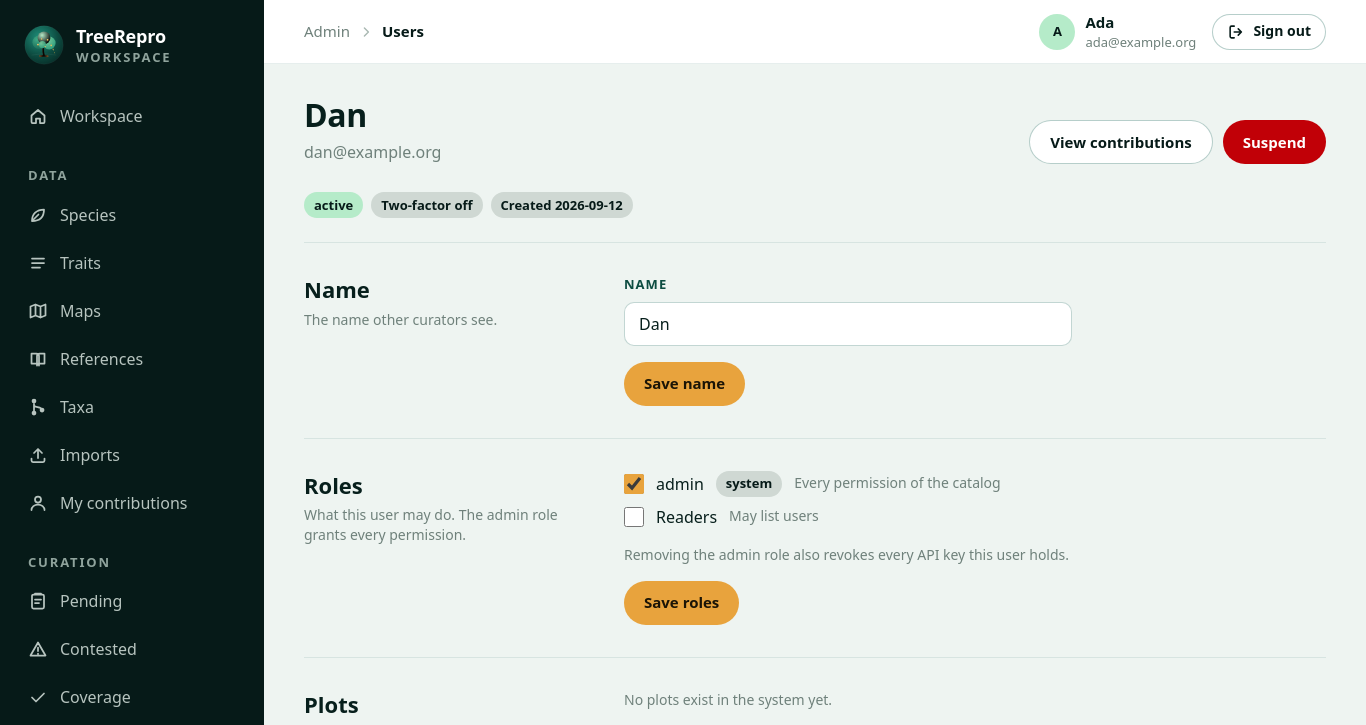
RFC-13 R2, RFC-50 R4 UserPage › RFC-50 R5, RFC-31 R7 saves roles; ROLE_LAST_ADMIN is mapped
Expected: the heading "Dan" is shown, left=304, top=93, right=367, bottom=136
Click the checkbox labelled "admin system Every permission of the catalog".
click(634, 484)  # box left=624, top=474, right=644, bottom=494
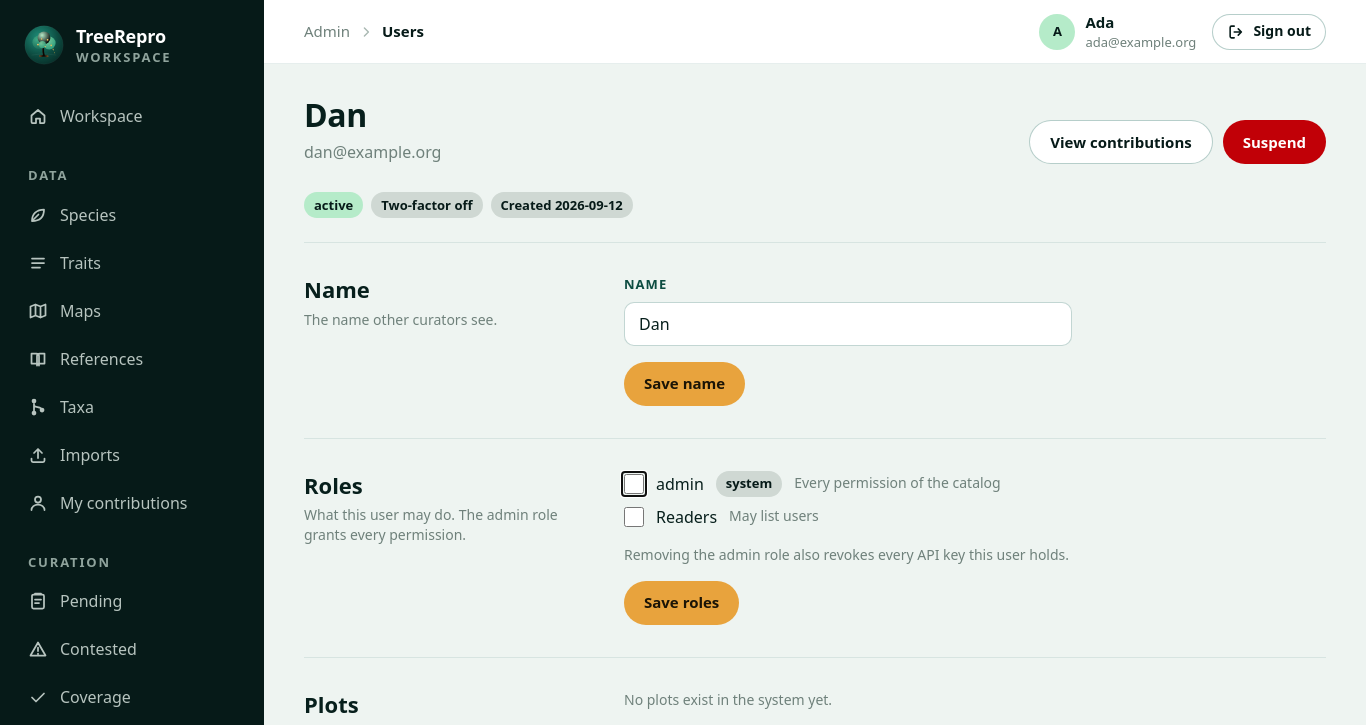
Click the button "Save roles".
click(682, 603)  # box left=624, top=581, right=739, bottom=625
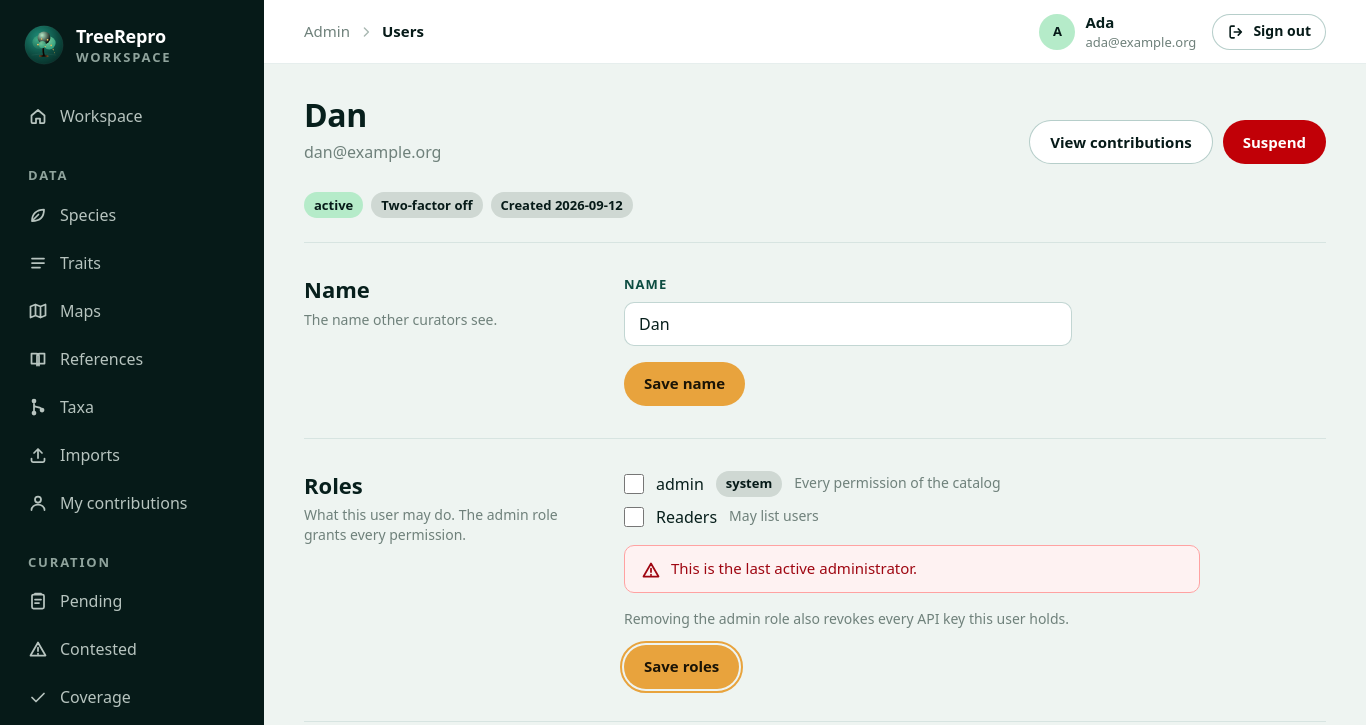
Expected: the message reads "This is the last active administrator.", left=671, top=558, right=917, bottom=578
Click the checkbox labelled "admin system Every permission of the catalog".
click(634, 484)  # box left=624, top=474, right=644, bottom=494
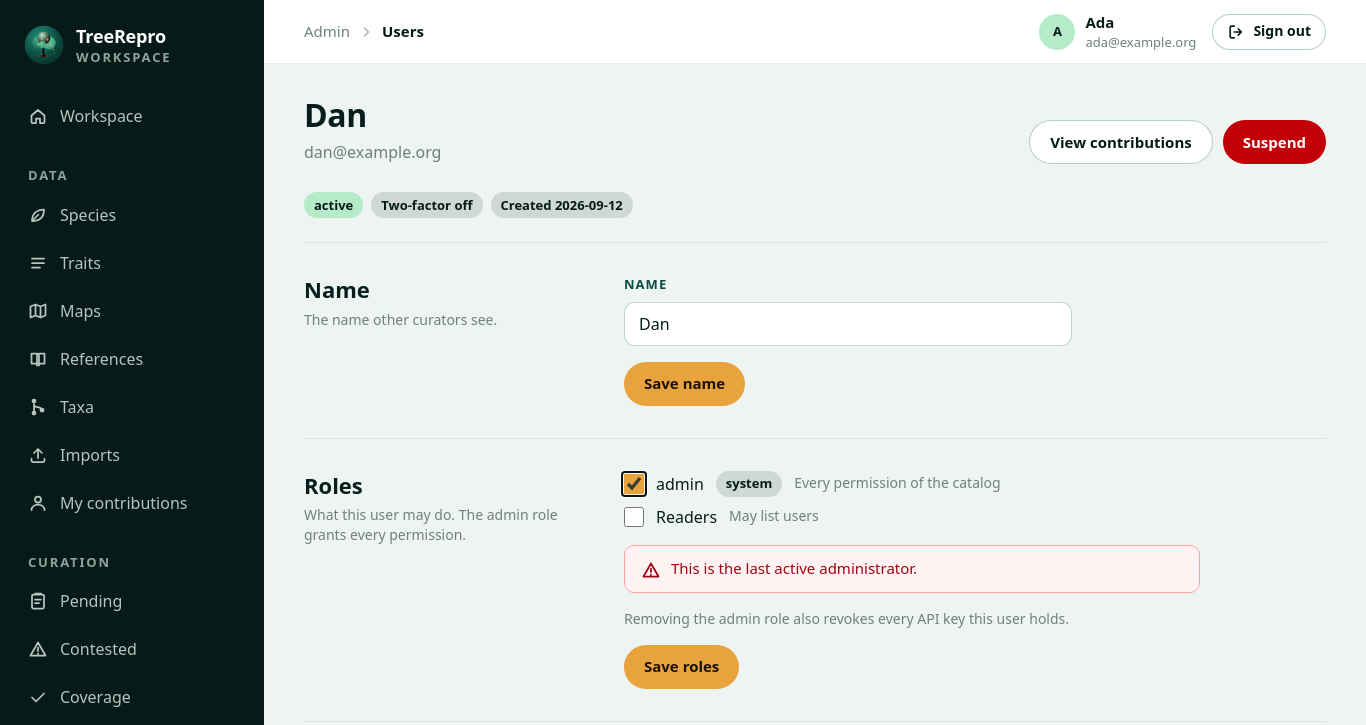
Click the checkbox labelled "Readers May list users".
click(634, 517)  # box left=624, top=507, right=644, bottom=527
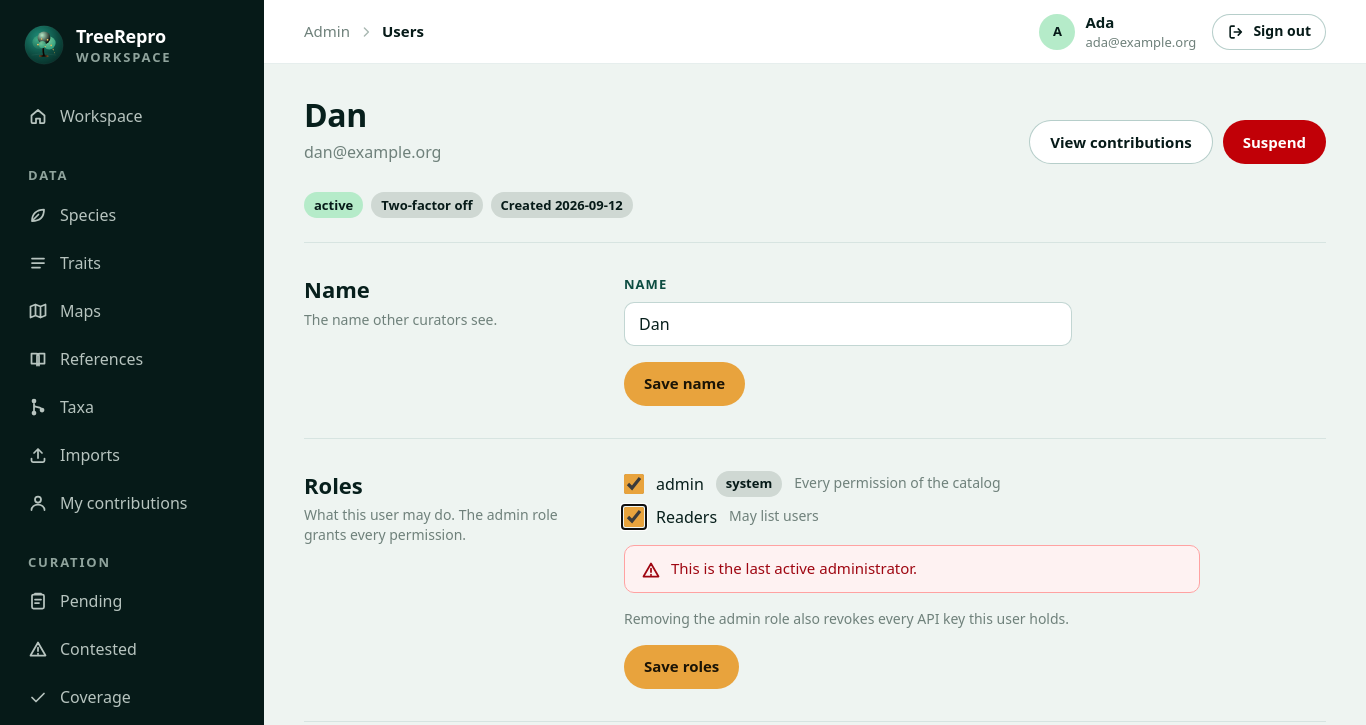
Click the button "Save roles".
click(682, 667)  # box left=624, top=645, right=739, bottom=689
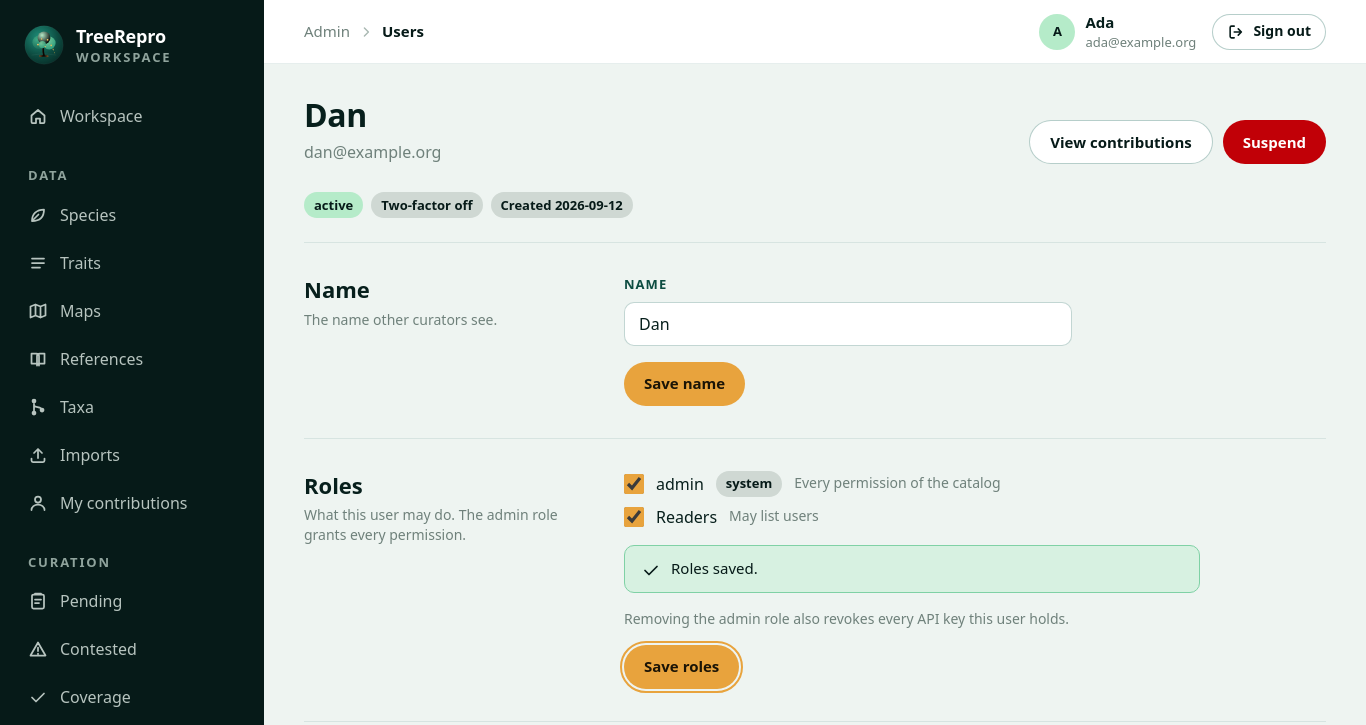
Expected: the message reads "Roles saved.", left=671, top=558, right=758, bottom=578
